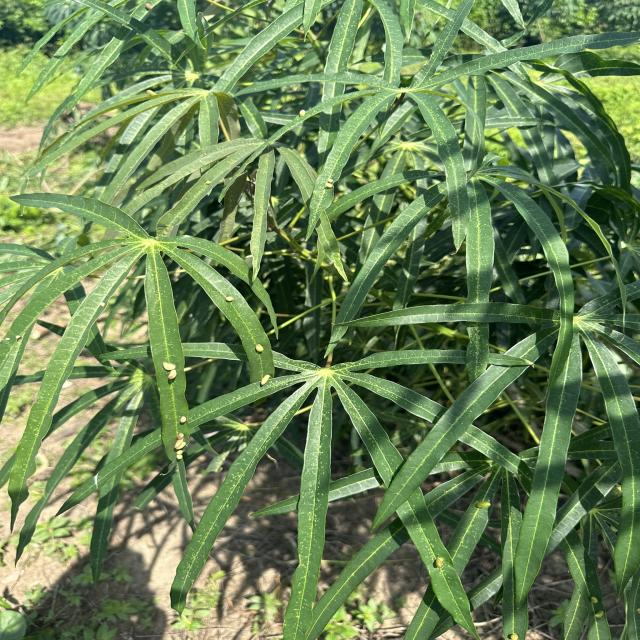Mosca: (576, 585, 611, 632), (459, 486, 507, 515), (173, 407, 194, 469), (155, 352, 186, 390), (309, 169, 349, 192), (495, 621, 543, 640), (294, 99, 321, 127), (423, 548, 449, 574), (249, 364, 271, 390), (221, 287, 240, 309), (4, 328, 26, 344), (251, 336, 265, 354)
